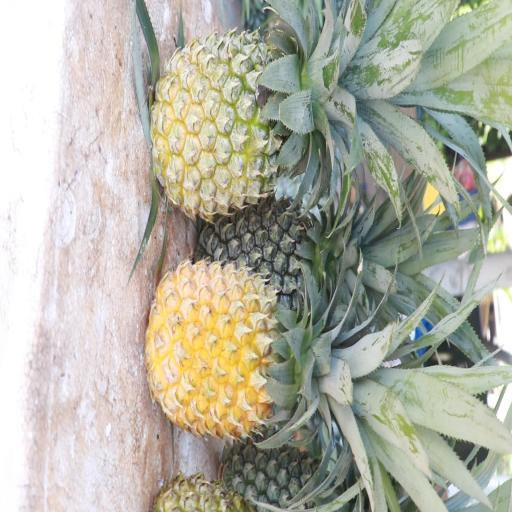------------------------------: (155, 30, 312, 215)
Pineapple - v8 v1: (146, 262, 316, 430)
